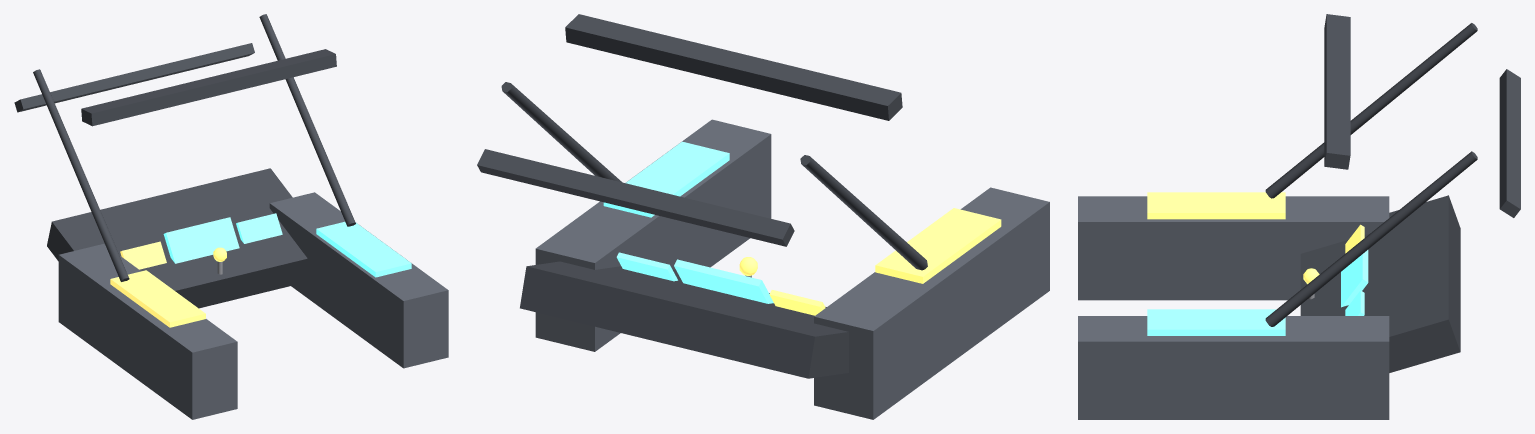
File: cockpit.glb
3 renders of one model, left to right at view 1: azimuth 30°, elevation 25°; view 2: azimuth 150°, elevation 25°; view 3: azimuth 270°, elevation 25°, orthographic. The views are drawn at different scales.
Parts seen in each view (by area): view 1: cockpit_m; view 2: cockpit_m; view 3: cockpit_m.
Boxes of the visible parts, box(x1,y1,x2,y2) form: cockpit_m: box(14, 14, 448, 419); cockpit_m: box(477, 14, 1049, 419); cockpit_m: box(1078, 14, 1520, 419).
Bounding box in the file's own units: 1.99 × 1.68 × 2.56.
